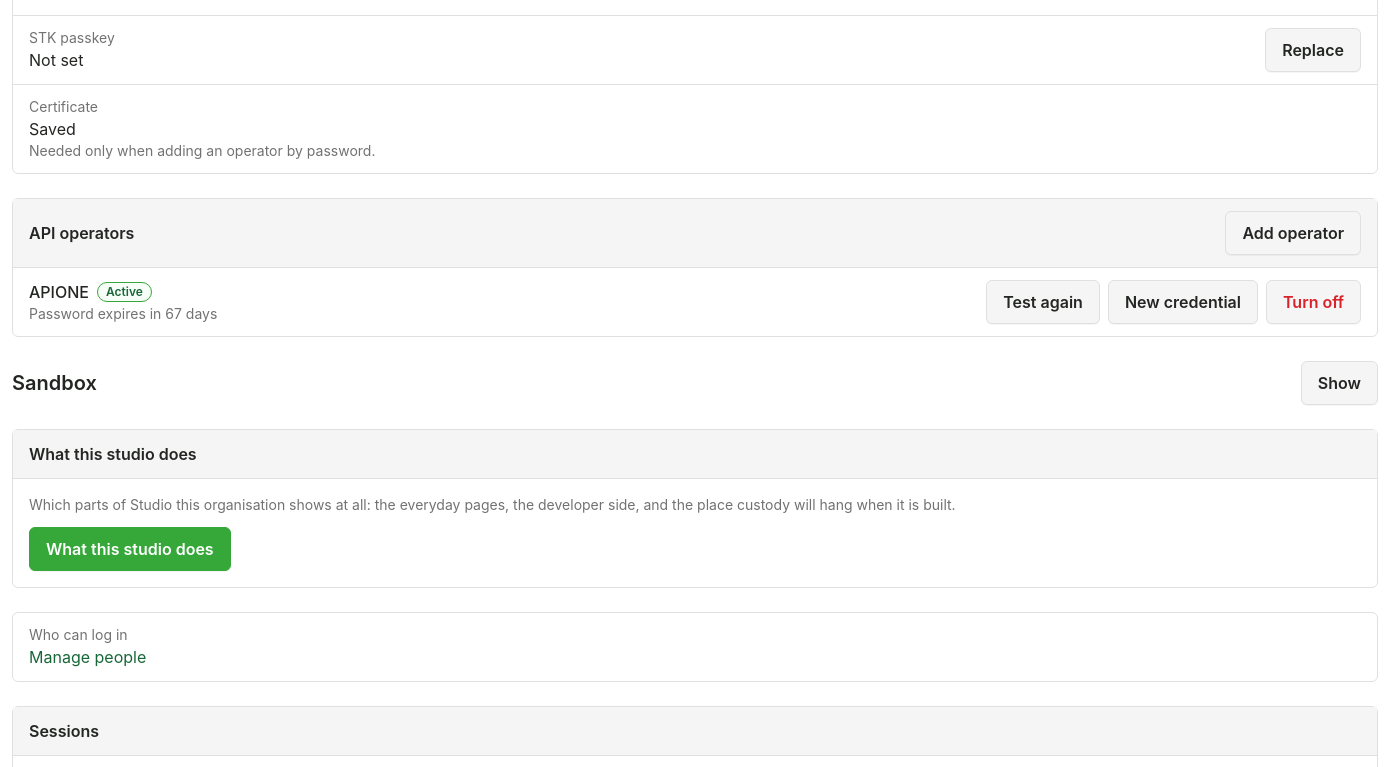
Test: Organisation › environments › shows the mode in use first and open, the other behind Show, each with its status line
This screenshot has width=1390, height=767.
(page scrolled)
Click the button "Show". click: (1339, 383)
box: left=1301, top=361, right=1378, bottom=405
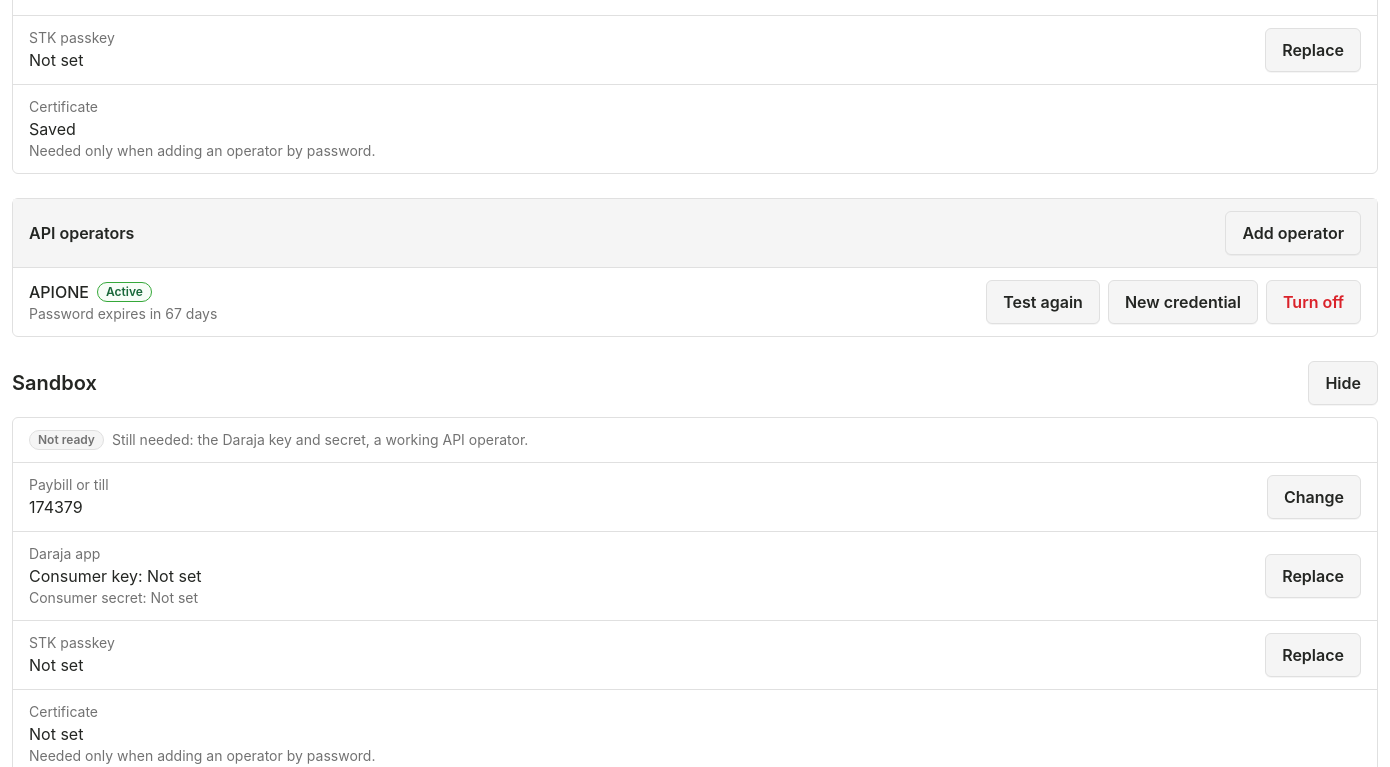
Now the element with test id "env-status-sandbox" shows "Not ready", box left=38, top=432, right=95, bottom=447
Now the element with test id "env-status-sandbox" shows "the Daraja key and secret", box left=112, top=431, right=528, bottom=448
